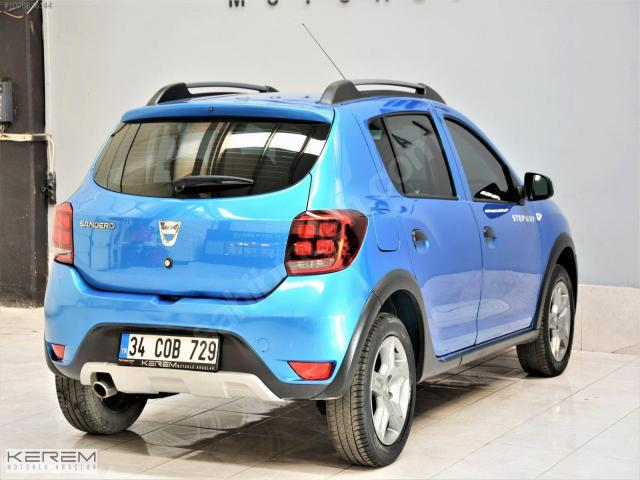plaka: (118, 333, 219, 371)
